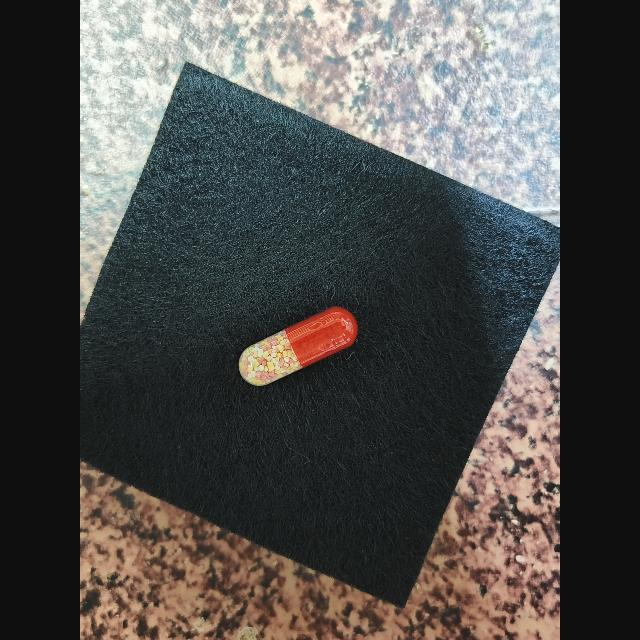Intact Capsule: (239, 307, 358, 386)
